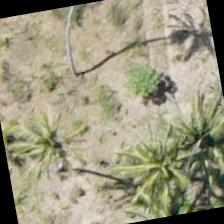Kelapa_Sawit: (112, 115, 216, 219), (0, 91, 95, 195), (168, 100, 223, 199)
